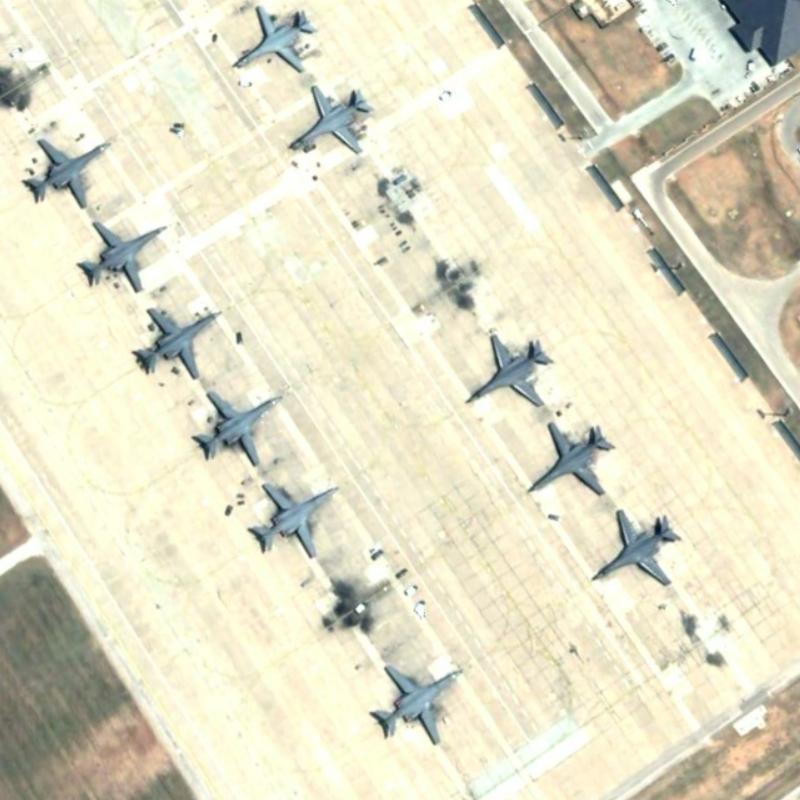A10: (364, 652, 470, 750), (180, 379, 285, 473), (459, 320, 555, 415), (522, 415, 623, 504), (589, 503, 683, 598), (240, 472, 340, 561), (72, 212, 172, 298), (21, 123, 113, 214), (276, 81, 381, 159), (130, 300, 225, 381), (228, 3, 323, 75)
